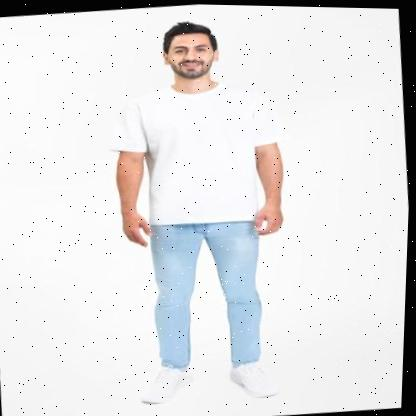person: (88, 8, 317, 416)
